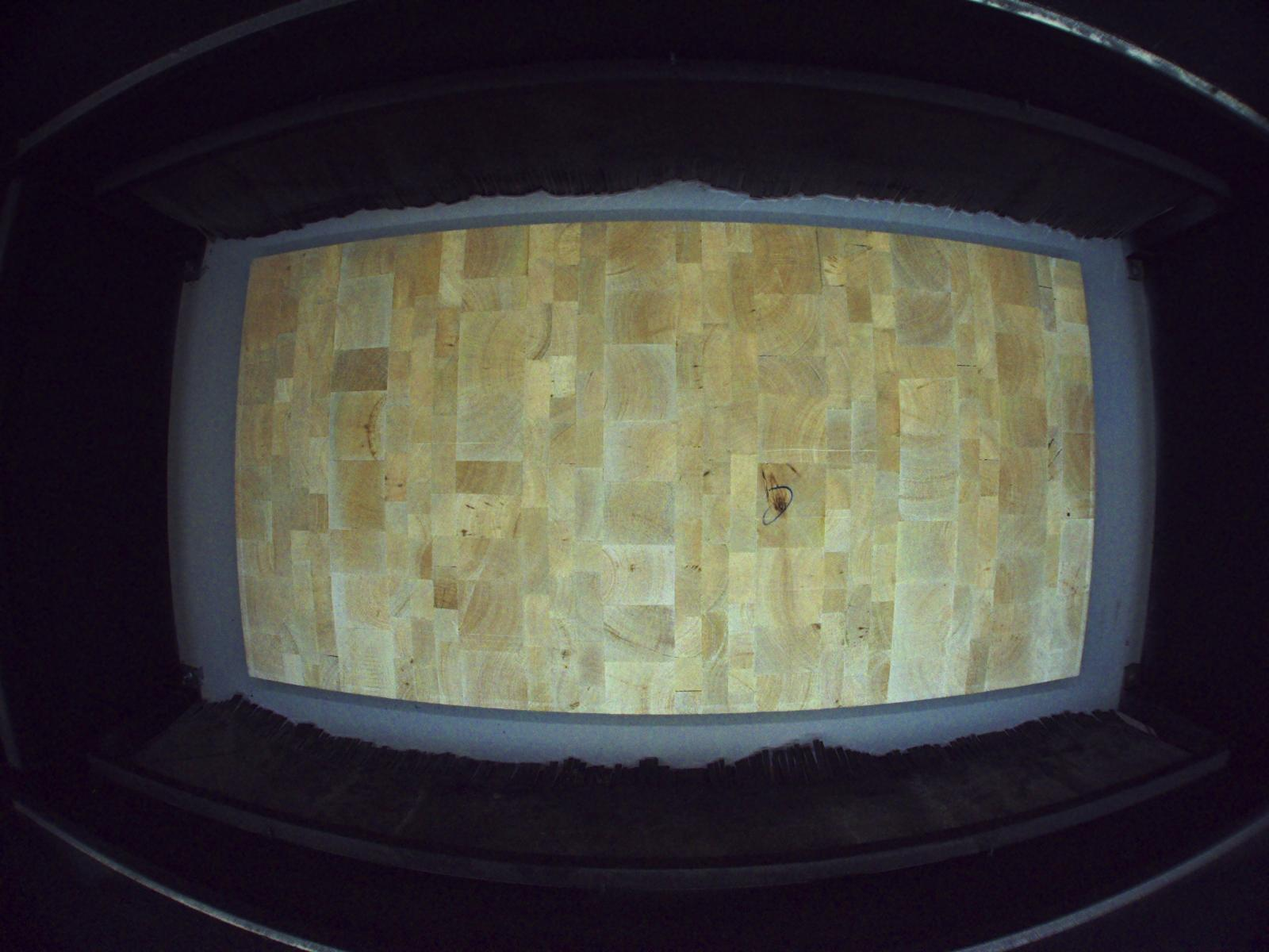nudillo: (759, 462, 791, 519)
